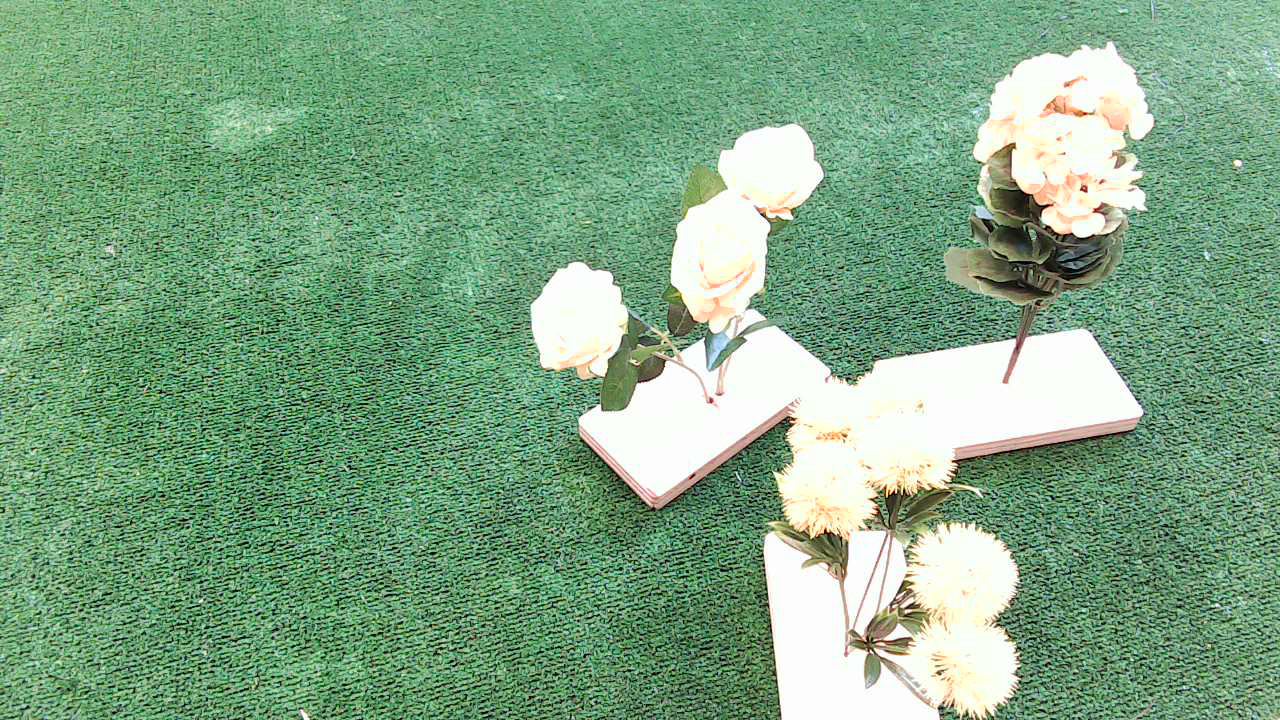dandelion: (765, 380, 1045, 716)
geranium: (933, 43, 1171, 339)
rose: (519, 120, 837, 395)
